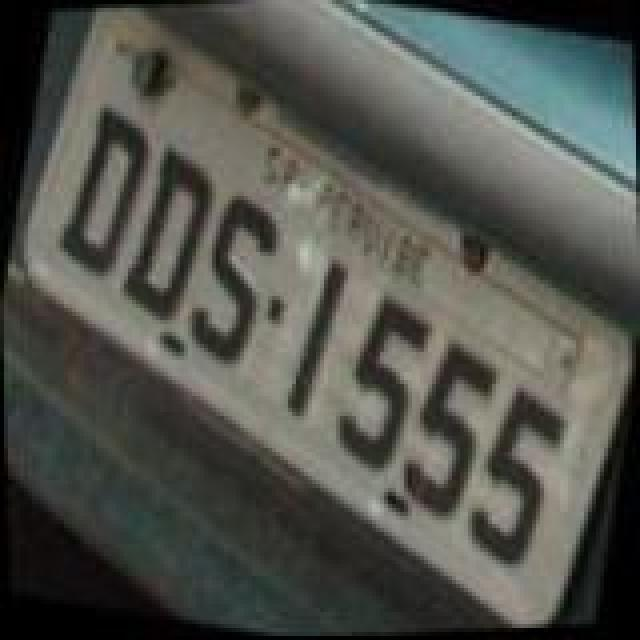1: (274, 252, 350, 420)
5: (386, 332, 510, 528), (452, 382, 576, 578), (318, 288, 438, 484)
D: (44, 94, 164, 286), (108, 140, 224, 332)
S: (170, 188, 290, 376)
